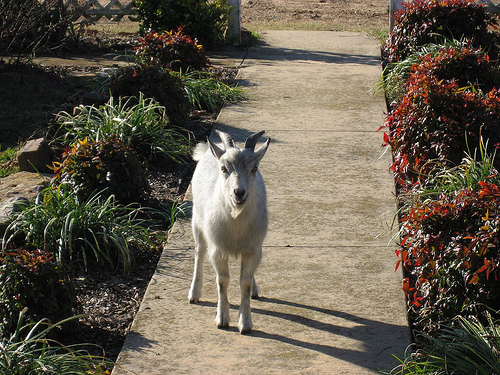goat: (185, 129, 272, 336)
